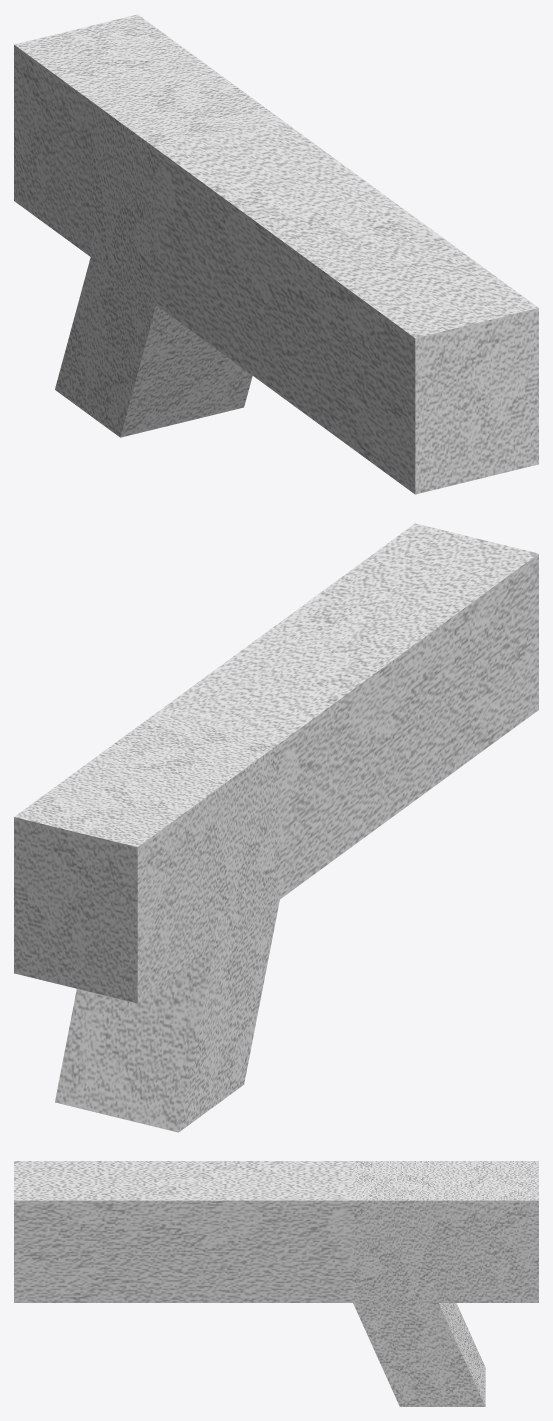
Rendered from Weapon1.fbx.
3 views of the same model, one above another, from view 1: azimuth 30°, elevation 25°; view 2: azimuth 150°, elevation 25°; view 3: azimuth 270°, elevation 25° (orthographic). The views are drawn at different scales.
Visible parts, largest first — view 1: Weapon Pistol; view 2: Weapon Pistol; view 3: Weapon Pistol.
Part boxes in pixels (box(x1,y1,x2,y2)): Weapon Pistol: box(14, 14, 538, 494); Weapon Pistol: box(14, 523, 538, 1132); Weapon Pistol: box(14, 1161, 538, 1406).
Size of the model in its own units: 4.44 by 10.8 by 24.91.
Materials: 1 (1 with a texture image).
